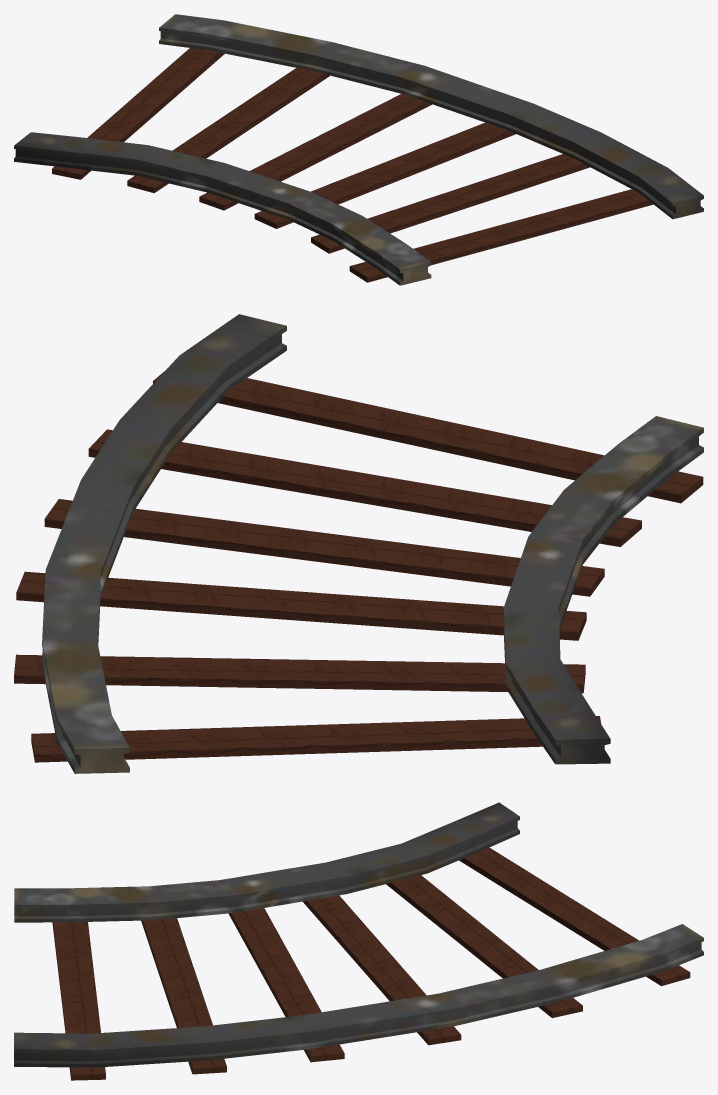
File: Trilho_Curva_Maior_Esquerda.fbx
3 renders of one model, top to bottom at view 1: azimuth 30°, elevation 25°; view 2: azimuth 150°, elevation 25°; view 3: azimuth 270°, elevation 25°, orthographic. The views are drawn at different scales.
Parts seen in each view (by area): view 1: Trilho.Curva.Maior.Esquerda; view 2: Trilho.Curva.Maior.Esquerda; view 3: Trilho.Curva.Maior.Esquerda.
Boxes of the visible parts, box(x1,y1,x2,y2) form: Trilho.Curva.Maior.Esquerda: box(14, 14, 703, 285); Trilho.Curva.Maior.Esquerda: box(14, 314, 703, 773); Trilho.Curva.Maior.Esquerda: box(14, 802, 703, 1080).
Size of the model in its own units: 306 by 12.94 by 350.
